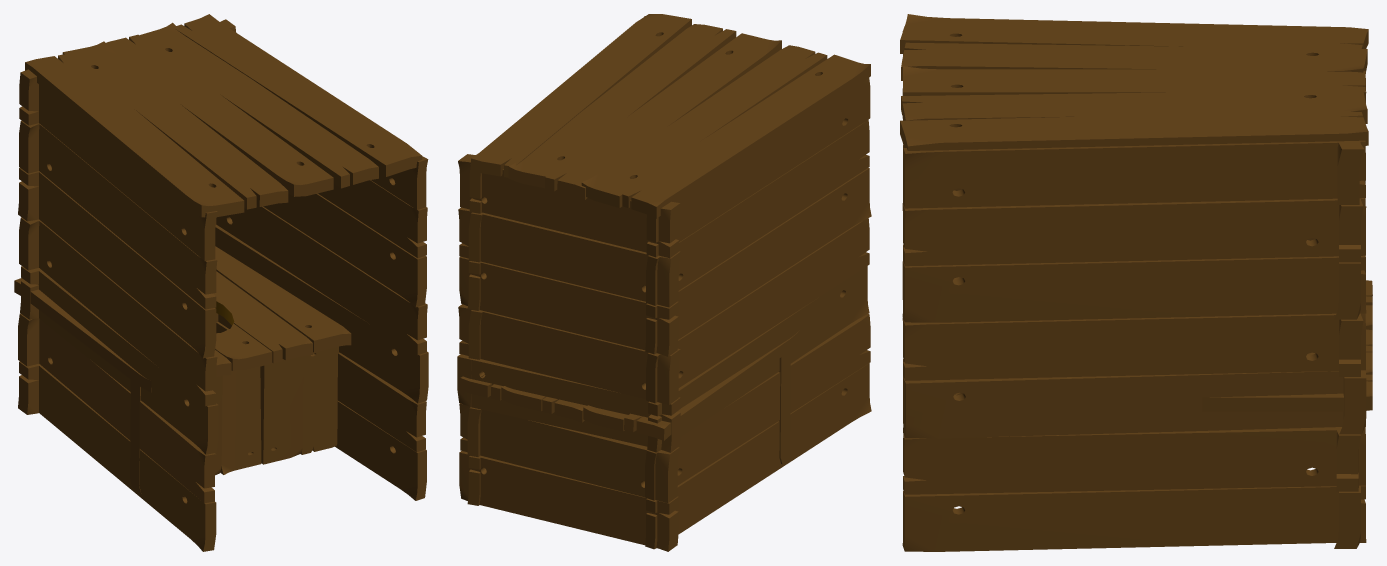
File: Outhouse.fbx
3 renders of one model, left to right at view 1: azimuth 30°, elevation 25°; view 2: azimuth 150°, elevation 25°; view 3: azimuth 270°, elevation 25°, orthographic. The views are drawn at different scales.
Visible parts, largest first — view 1: pCube223; view 2: pCube223; view 3: pCube223.
Boxes of the visible parts, x1,y1,x2,y2 form: pCube223: (14,14,428,551); pCube223: (457,14,871,551); pCube223: (900,14,1372,551).
Bounding box in the file's own units: 7.02 × 10.25 × 10.73.
